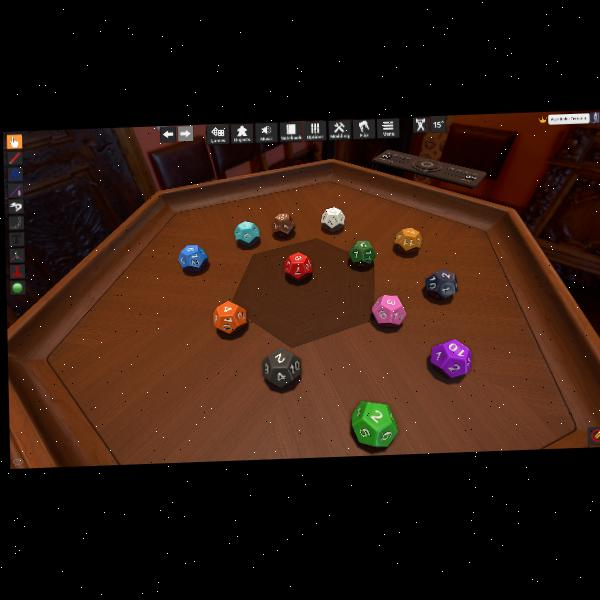d12: (353, 400, 398, 447), (429, 338, 471, 379), (261, 346, 301, 388), (212, 300, 244, 335), (370, 294, 402, 328), (426, 268, 458, 300), (179, 244, 209, 273), (284, 250, 312, 281), (234, 220, 261, 247), (348, 238, 374, 265), (271, 212, 297, 238), (320, 206, 344, 232), (394, 227, 417, 253)
